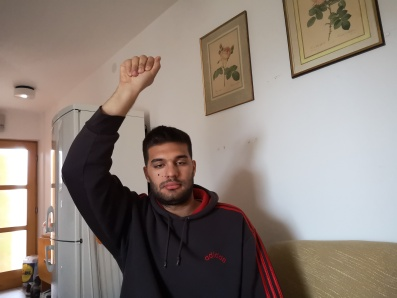A: (118, 54, 162, 87)
